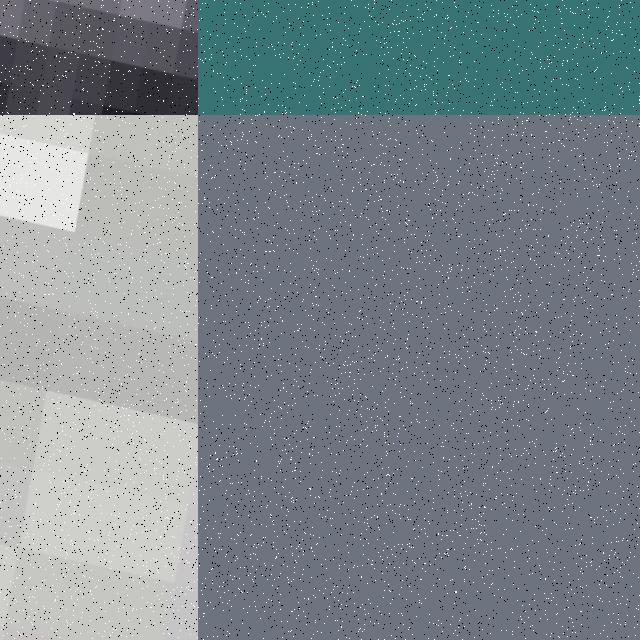drone: (0, 115, 198, 640), (0, 0, 198, 115)
